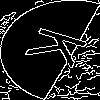K: (24, 25, 100, 74)
